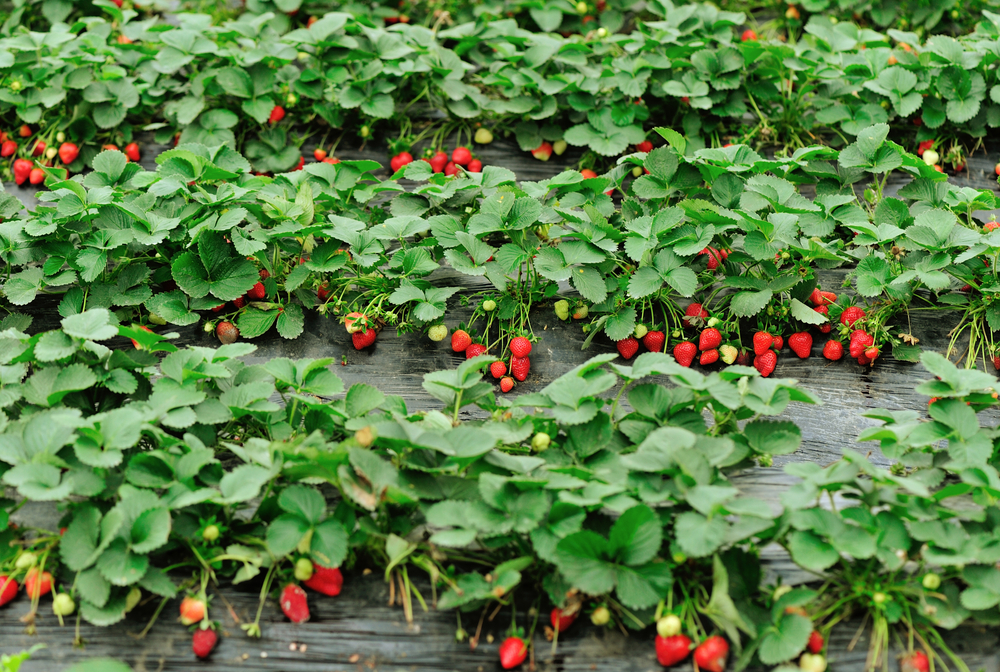ripe_strawberry: (304, 558, 346, 597), (278, 582, 312, 627), (691, 634, 730, 672), (654, 632, 693, 669), (496, 634, 531, 669), (190, 622, 221, 659), (26, 567, 57, 600), (849, 329, 876, 359), (1, 570, 21, 610), (551, 604, 578, 633), (899, 649, 931, 672), (787, 332, 814, 359), (129, 325, 156, 351), (673, 340, 698, 368), (752, 350, 776, 379), (752, 329, 775, 359), (698, 327, 725, 352), (351, 327, 378, 352), (839, 303, 867, 326), (682, 303, 710, 326), (509, 354, 532, 382), (812, 305, 833, 335), (698, 245, 723, 270), (509, 334, 533, 360), (218, 320, 241, 347), (644, 327, 665, 356), (14, 157, 34, 187), (451, 327, 472, 354), (822, 338, 844, 362), (390, 151, 414, 173), (616, 339, 639, 360), (318, 279, 339, 302), (467, 339, 488, 361), (60, 143, 81, 165), (806, 628, 825, 652), (429, 151, 448, 174), (268, 105, 287, 125), (452, 148, 474, 165), (125, 143, 143, 163), (490, 358, 507, 379), (1, 139, 19, 158), (917, 139, 937, 156), (698, 349, 719, 365), (768, 332, 784, 352), (249, 282, 266, 300), (865, 343, 881, 362), (31, 168, 47, 187), (288, 157, 307, 173), (500, 378, 516, 394), (809, 287, 823, 305), (579, 169, 599, 181), (820, 292, 839, 304), (35, 138, 47, 157), (469, 160, 483, 174), (742, 30, 757, 43), (20, 125, 34, 138), (953, 159, 966, 173), (259, 269, 274, 281), (103, 144, 121, 154), (638, 141, 653, 153), (314, 149, 327, 162), (255, 169, 271, 179), (323, 157, 341, 165), (721, 248, 733, 259), (214, 303, 227, 313), (111, 1, 125, 9), (604, 189, 615, 197), (643, 168, 653, 176), (420, 157, 430, 164), (723, 144, 734, 149)
unripe_strawberry: (180, 590, 213, 626), (51, 589, 83, 618), (655, 610, 686, 638), (796, 652, 831, 672), (292, 553, 315, 581), (344, 309, 369, 334), (15, 547, 43, 569), (589, 604, 613, 627), (531, 430, 554, 452), (530, 141, 553, 163), (719, 344, 741, 366), (200, 523, 225, 542), (569, 301, 591, 322), (425, 322, 449, 341), (552, 300, 572, 321), (474, 127, 495, 145), (923, 150, 939, 166), (553, 139, 568, 156), (482, 299, 498, 312), (634, 324, 648, 337), (46, 146, 59, 160), (597, 26, 609, 39), (360, 125, 371, 139), (204, 321, 216, 333), (56, 131, 68, 143), (708, 316, 720, 327), (632, 166, 642, 177), (840, 326, 850, 336)
